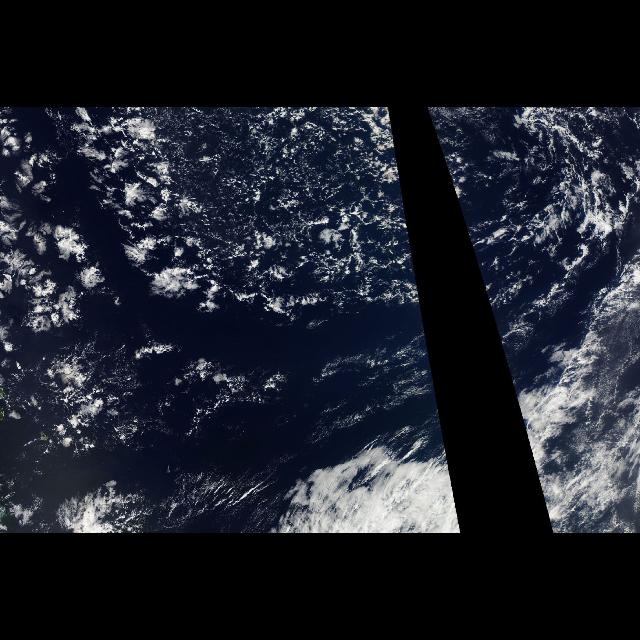Flower: (0, 107, 202, 330)
Gravel: (90, 108, 424, 324), (426, 108, 634, 324)
Sugar: (312, 334, 446, 444)
